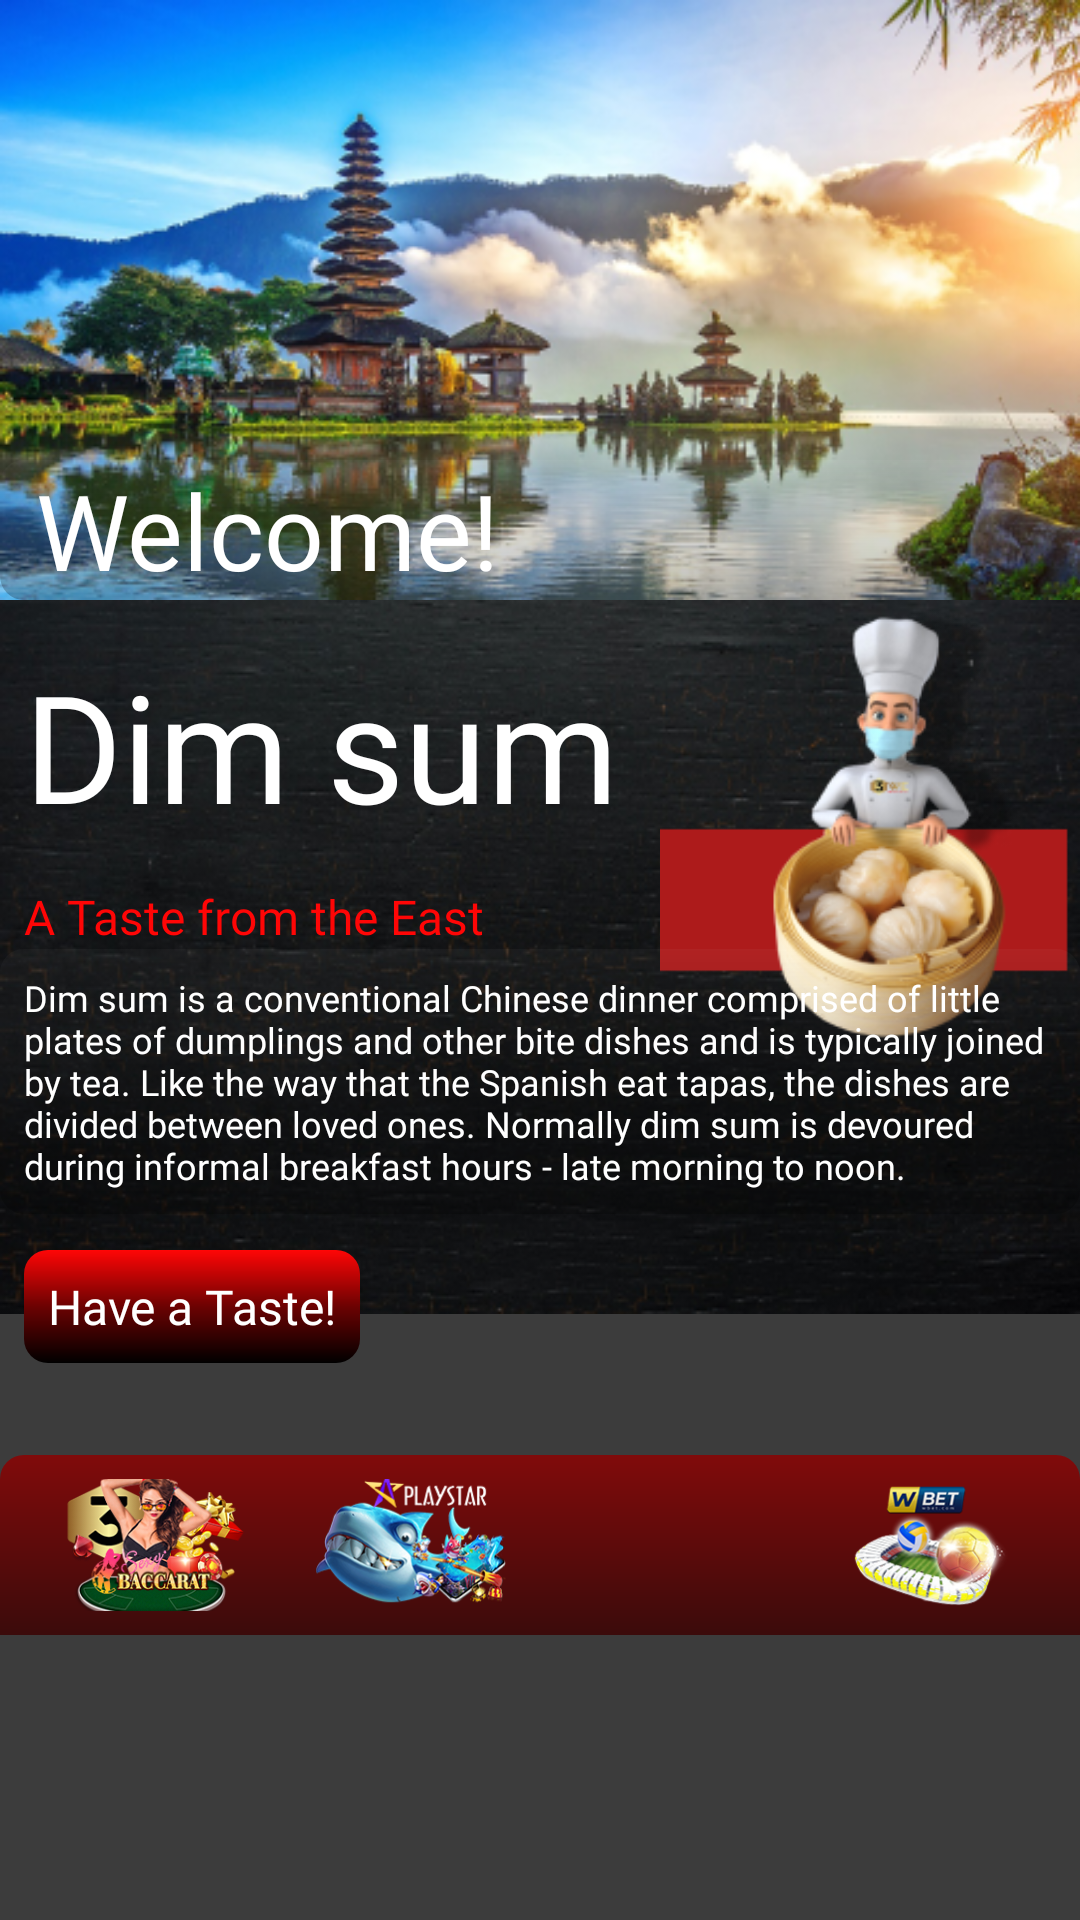

Icon click points for this 1080px×1920px phone screenshot, format (x=x, y=y):
adslady: (x=153, y=1545)
